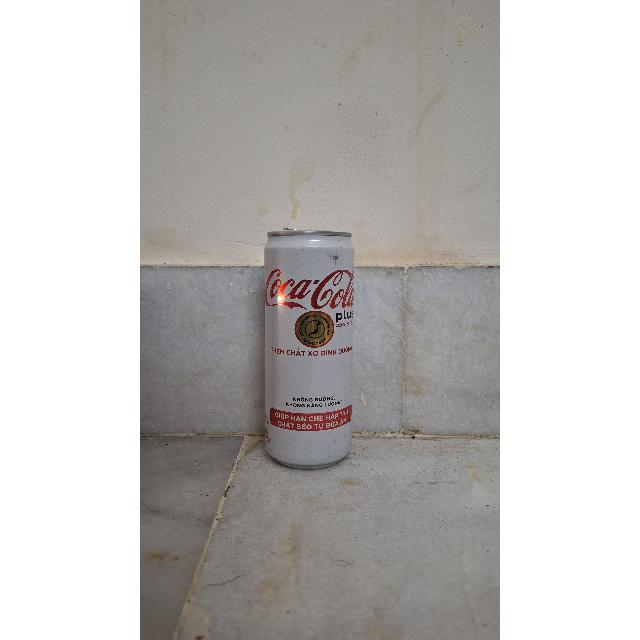Coca Cola: (258, 223, 370, 477)
